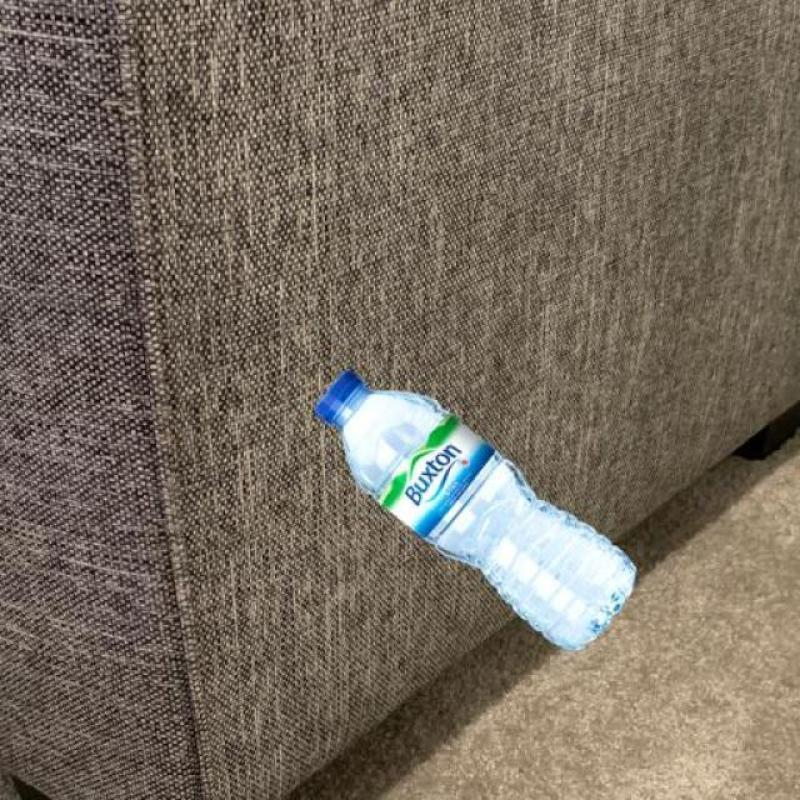botella: (310, 368, 640, 660)
